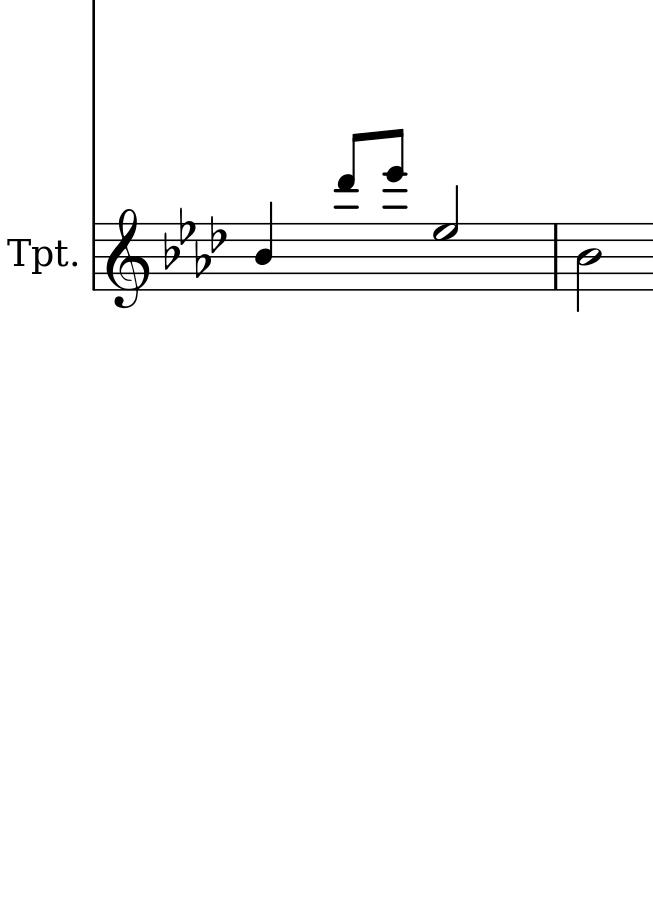2_4: (575, 221, 602, 313)
2_7: (433, 183, 460, 292)
4_4: (253, 200, 275, 293)
8_13: (332, 129, 367, 292)
8_14: (380, 127, 408, 293)
A_F: (158, 207, 227, 278)
Gclef: (105, 206, 151, 310)
Single_barline: (85, 223, 107, 290), (547, 223, 565, 292)
Tpt: (7, 231, 69, 276)
